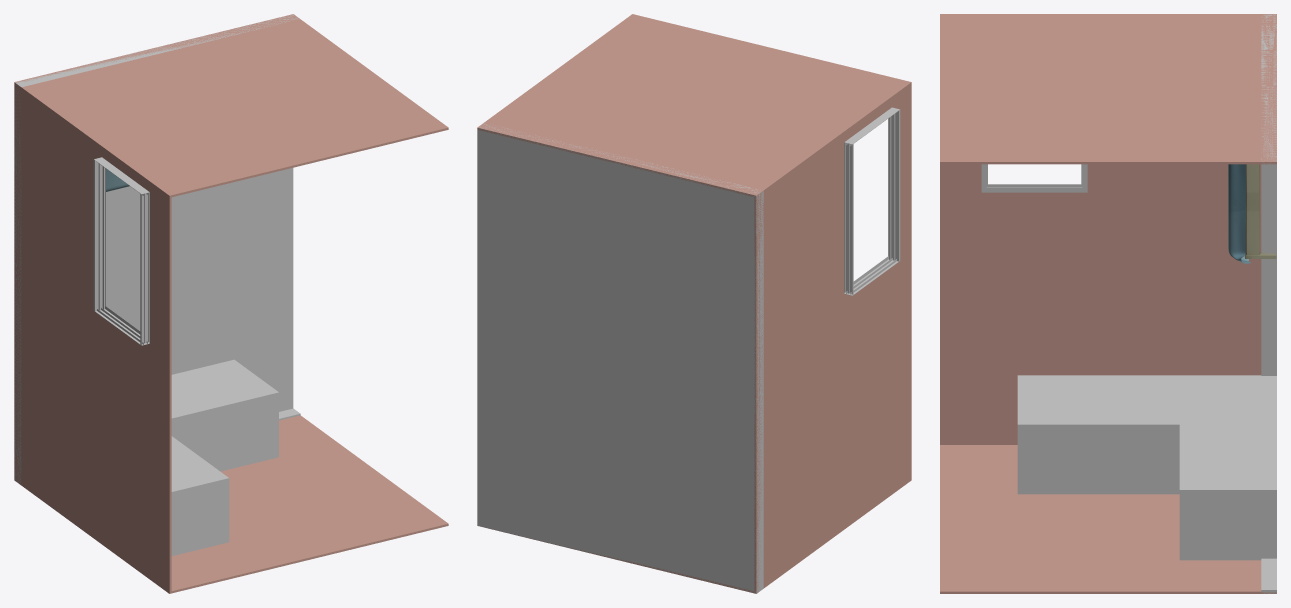
The model's file is Cuarto.obj.
3 views of the same model, side by side, from view 1: azimuth 30°, elevation 25°; view 2: azimuth 150°, elevation 25°; view 3: azimuth 270°, elevation 25° (orthographic). The views are drawn at different scales.
Bounding box in the file's own units: 2.78 × 3.68 × 2.6.
5 materials, 1 textured.
